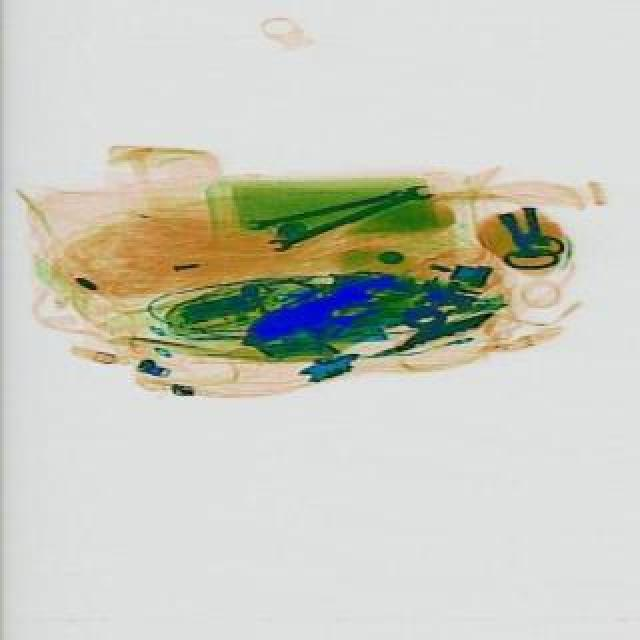scissors: (264, 182, 432, 258), (242, 190, 402, 234)
